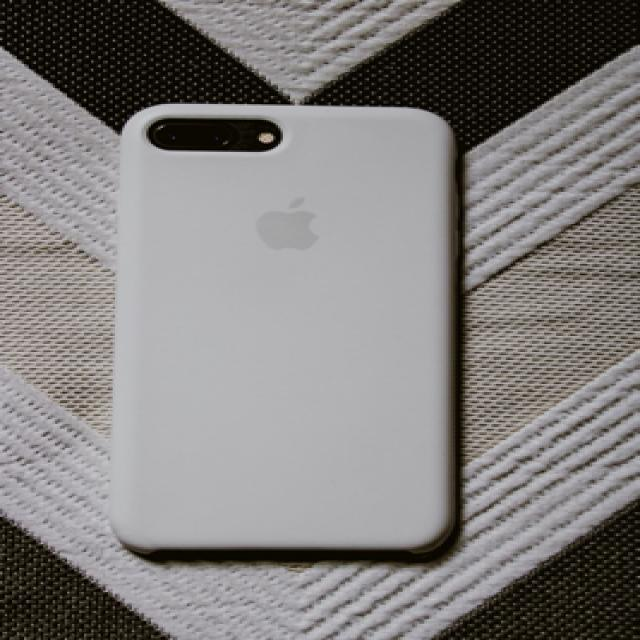cellphone: (108, 100, 460, 562)
